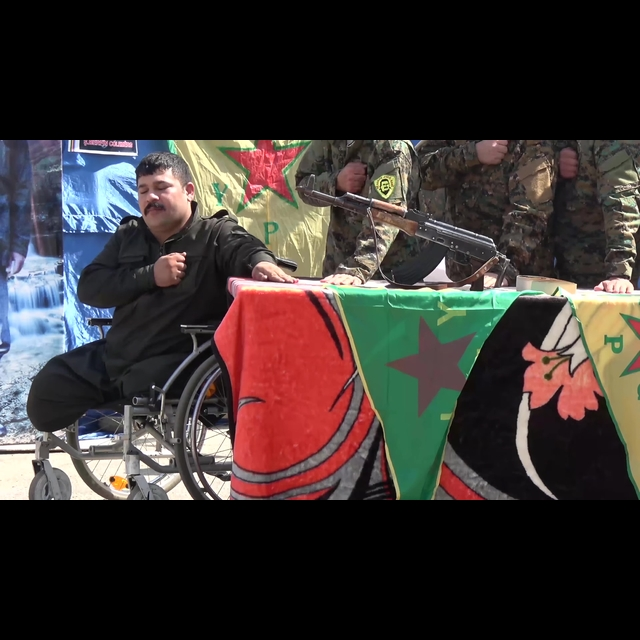AK47: (292, 173, 520, 292)
YPG: (202, 138, 294, 241)
YPJ: (394, 301, 471, 431)
